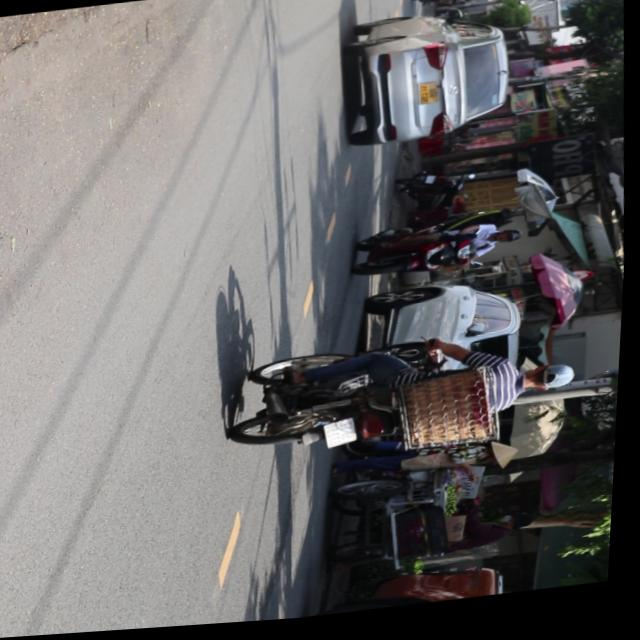licenseplate: (227, 327, 587, 471)
motorcyclist: (527, 368, 582, 402)
nohelmet: (328, 422, 362, 453)
